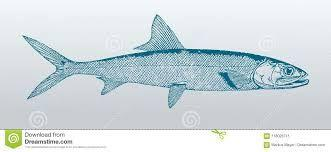Tenpounder: (21, 14, 312, 110)
